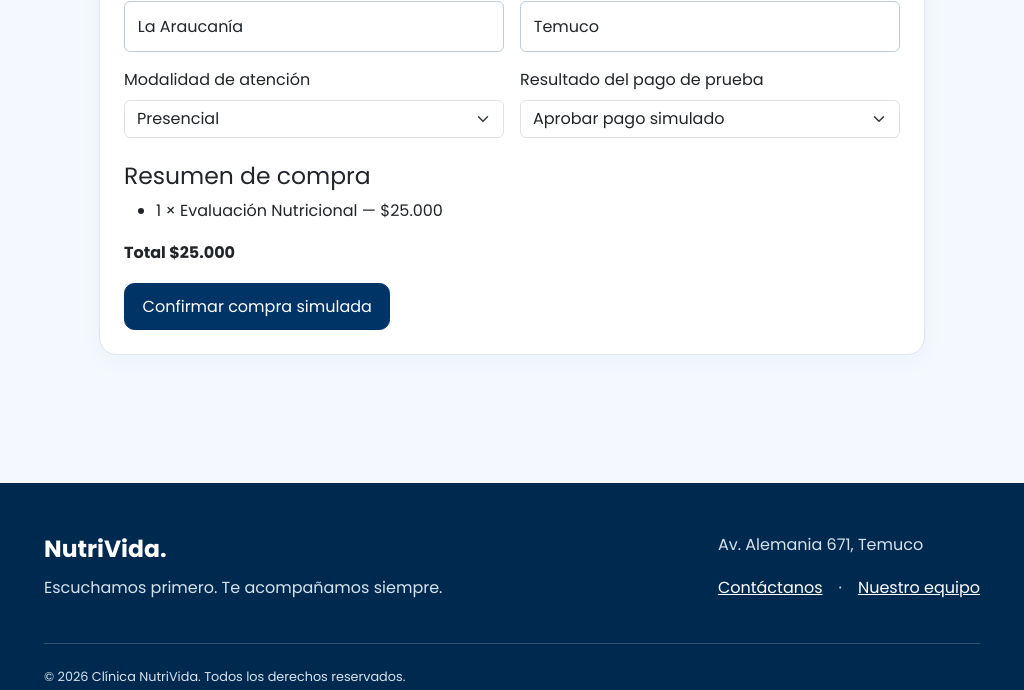
Test: Compras simuladas y comprobantes › autocompleta el checkout y registra una compra aprobada accesible desde Mis compras
(page scrolled)
Click the button "Confirmar compra simulada" at (257, 307), box x1=124 y1=283 x2=390 y2=330
(page scrolled)
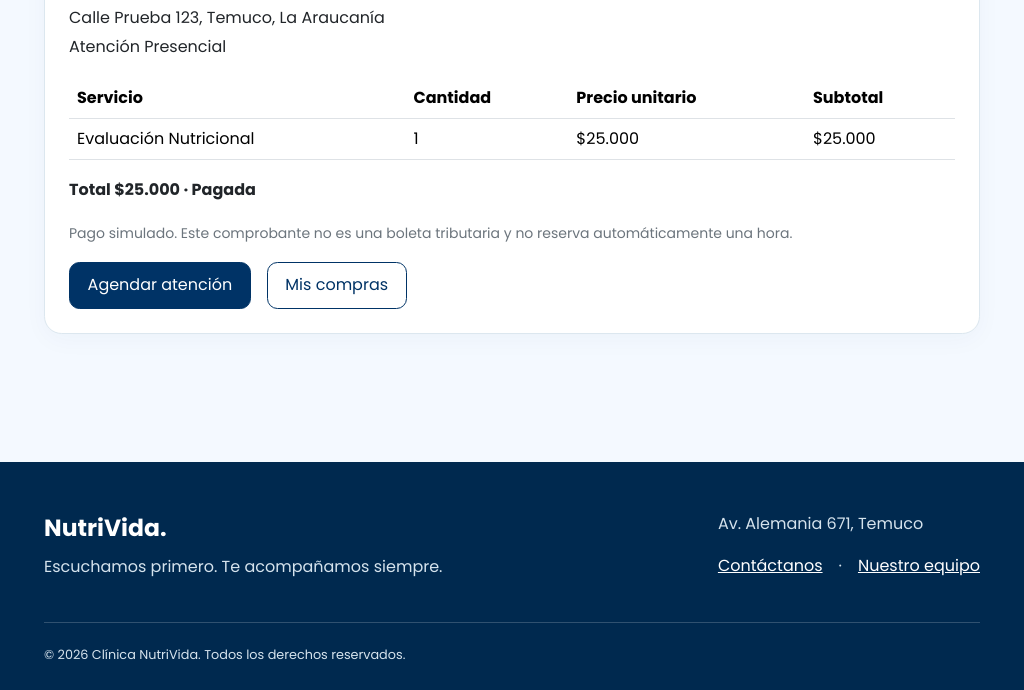
Click the button "Mis compras" at (337, 285), box x1=267 y1=262 x2=407 y2=309
(page scrolled)
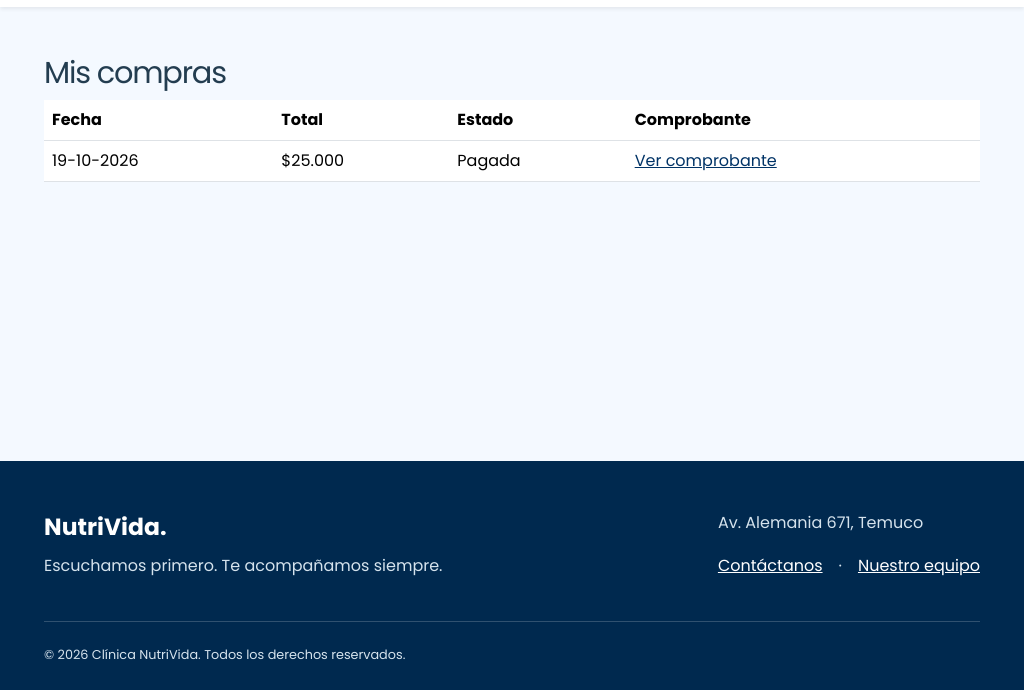
Expected: the text "Pagada" is shown, x1=449 y1=140 x2=627 y2=181
Click the link "Ver comprobante" at (706, 160), box x1=635 y1=149 x2=777 y2=172
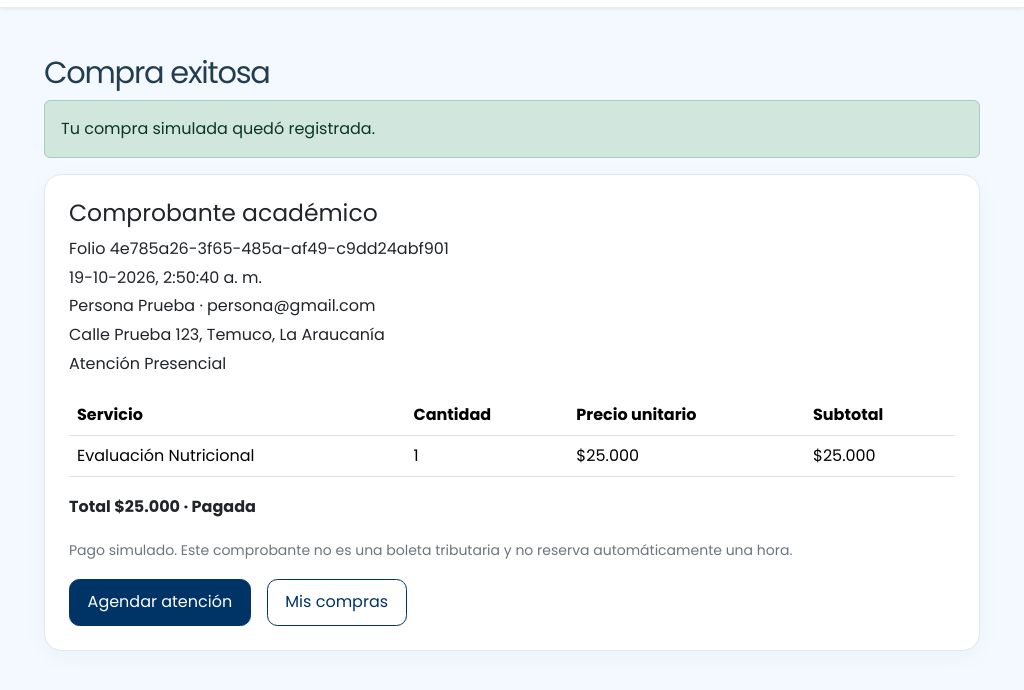
Expected: the heading "Comprobante académico" is shown, x1=69 y1=196 x2=378 y2=229
